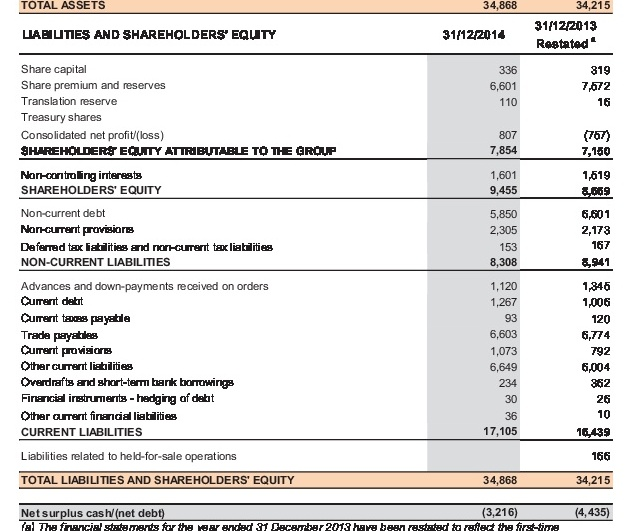table: (0, 0, 628, 531)
